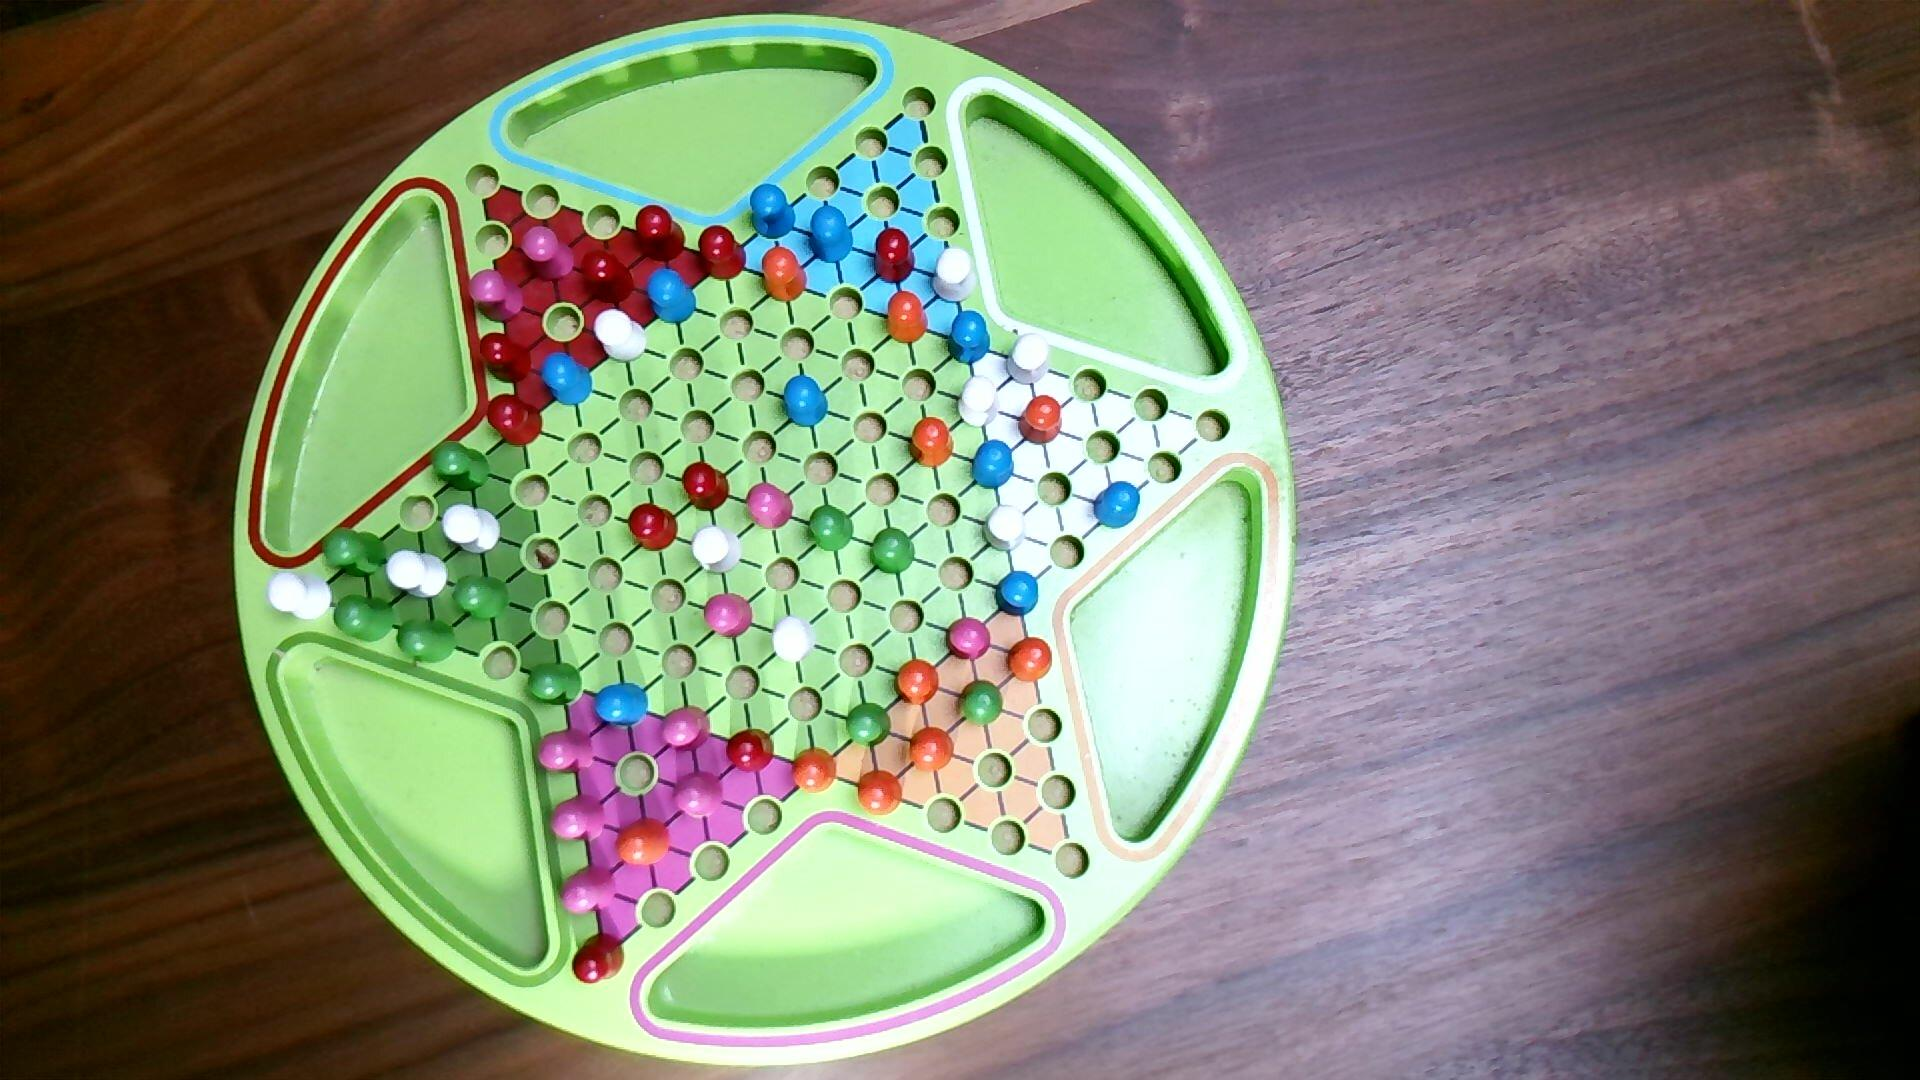B: (645, 266, 699, 327), (538, 351, 593, 407), (591, 680, 651, 731), (807, 204, 856, 266), (749, 183, 798, 243), (781, 375, 829, 431), (945, 309, 992, 368), (1092, 480, 1143, 531), (971, 438, 1017, 492), (994, 568, 1042, 620)
G: (320, 526, 386, 580), (429, 439, 492, 495), (334, 593, 396, 644), (396, 617, 459, 665), (451, 574, 512, 622), (527, 662, 585, 708), (806, 502, 856, 554), (868, 525, 916, 578), (957, 678, 1006, 729), (844, 702, 894, 748)
O: (615, 816, 673, 869), (760, 247, 808, 306), (1015, 393, 1065, 448), (884, 290, 931, 347), (907, 415, 956, 469), (891, 657, 942, 708), (856, 767, 905, 820), (909, 725, 957, 775), (1006, 636, 1055, 686), (790, 746, 837, 796)
R: (485, 392, 545, 448), (579, 249, 637, 306), (634, 204, 688, 264), (570, 931, 626, 986), (698, 223, 749, 284), (477, 332, 533, 386), (626, 502, 680, 555), (872, 225, 916, 286), (682, 462, 732, 514), (724, 728, 778, 775)
R2: (520, 225, 578, 284), (467, 269, 526, 324), (558, 862, 618, 916), (549, 793, 608, 845), (535, 727, 595, 775), (671, 770, 727, 822), (659, 704, 713, 754), (745, 481, 796, 531), (703, 592, 756, 641), (944, 615, 993, 665)
W: (266, 571, 334, 622), (385, 549, 451, 600), (440, 502, 502, 556), (592, 307, 649, 365), (690, 525, 745, 578), (931, 247, 980, 305), (956, 375, 1002, 431), (770, 615, 819, 667), (1005, 332, 1052, 386), (981, 502, 1029, 555)
